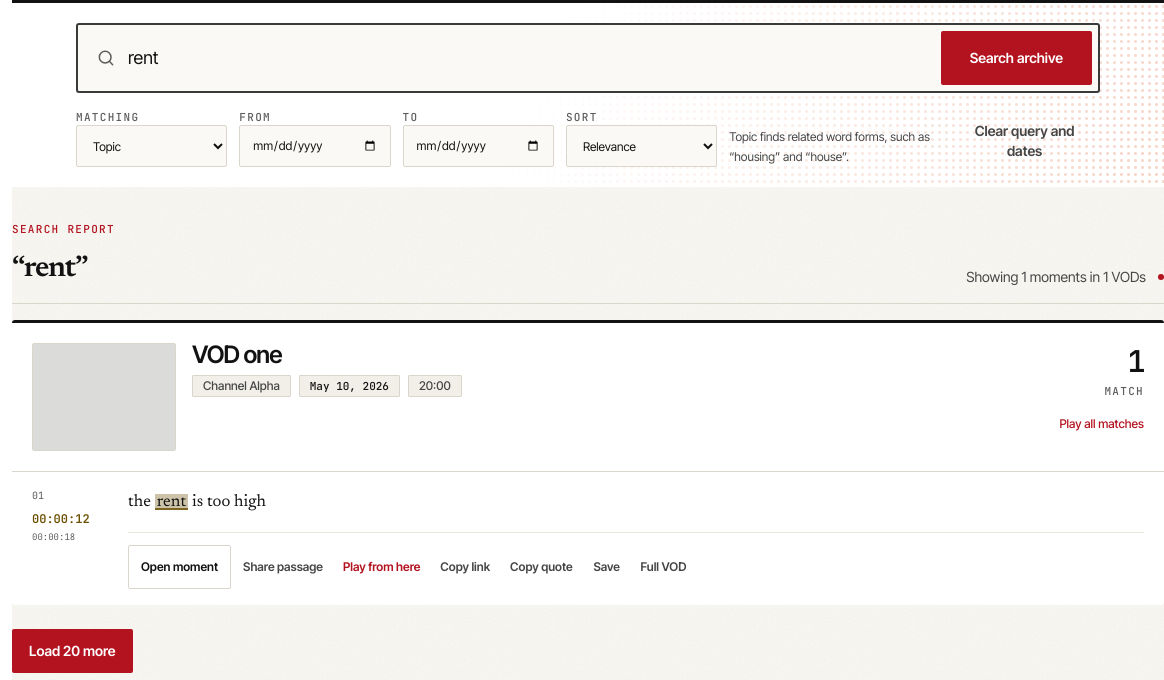
Scenario: SearchPage › loads the next raw-moment page without replacing visible VOD groups
This screenshot has width=1164, height=680.
Step 1. Click the button "Load 20 more" → (72, 651), box [12, 629, 133, 673]
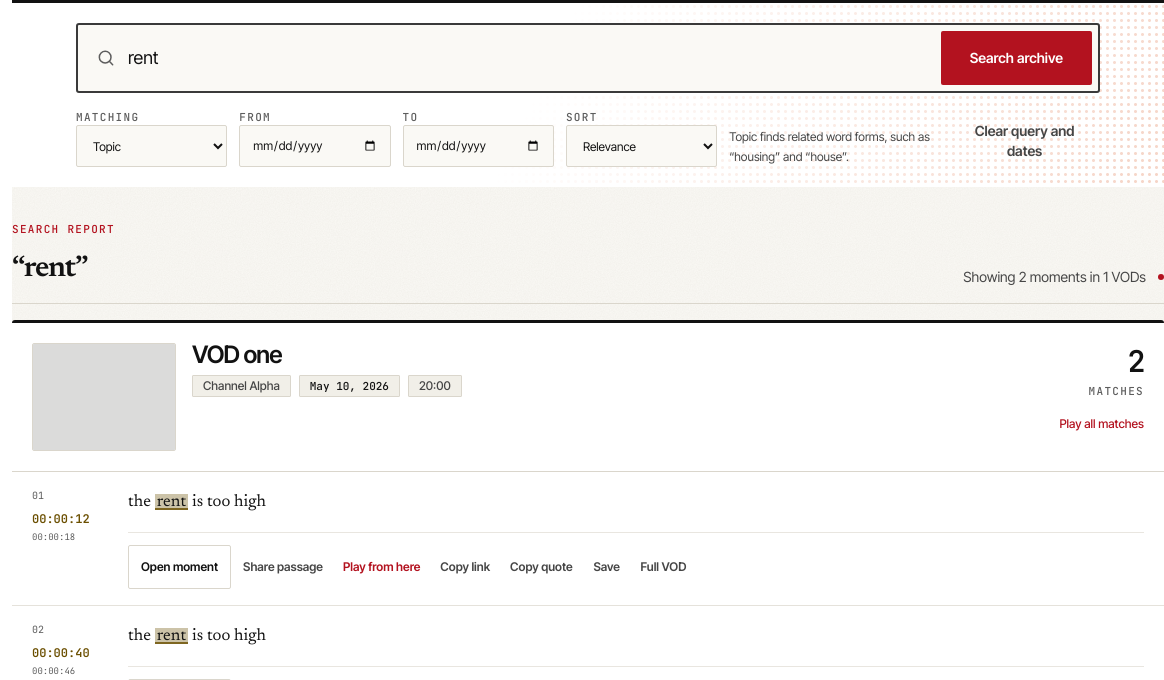
Expected: the text "00:00:12" is shown, [32, 511, 90, 527]
Expected: the text "Showing 2 moments in 1 VODs" is shown, [963, 267, 1146, 287]
